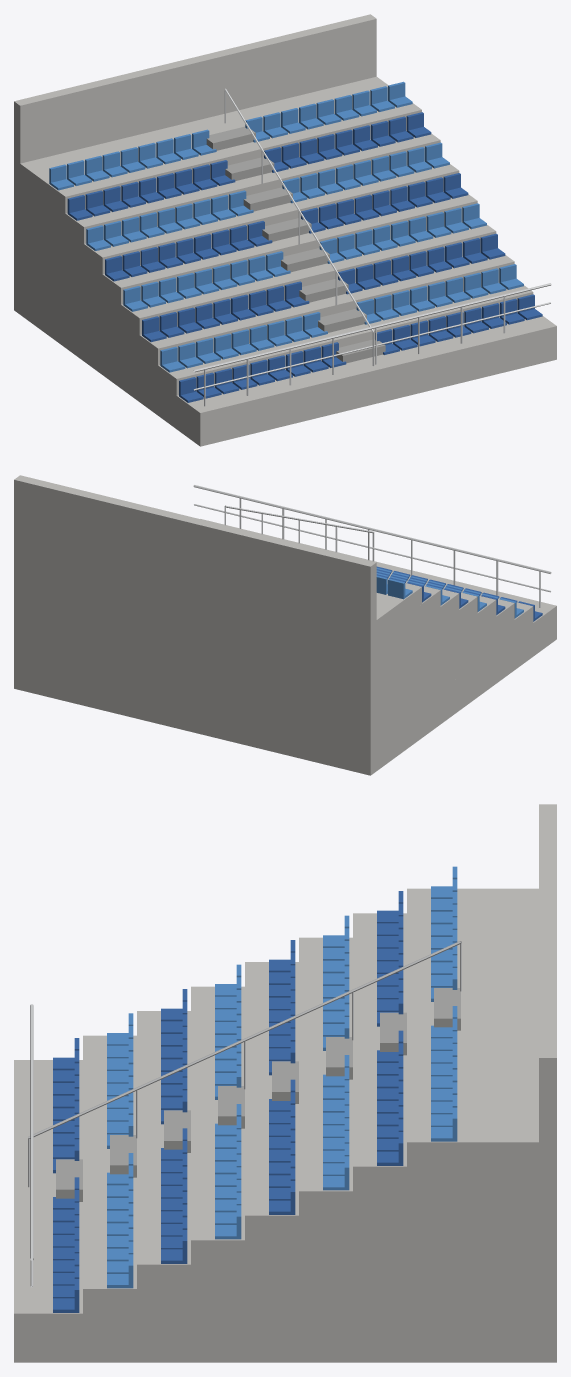
The model's file is bay_10m.glb.
The picture shows the model from 3 angles, top to bottom: view 1: azimuth 30°, elevation 25°; view 2: azimuth 150°, elevation 25°; view 3: azimuth 270°, elevation 25°; orthographic projection. The views are drawn at different scales.
Visible parts, largest first — view 1: bay_10m; view 2: bay_10m; view 3: bay_10m.
Part boxes in pixels (<box>): bay_10m: <box>14,14,556,446</box>; bay_10m: <box>14,475,556,775</box>; bay_10m: <box>14,804,556,1362</box>.
Bounding box in the file's own units: 10 × 5.6 × 9.05.
